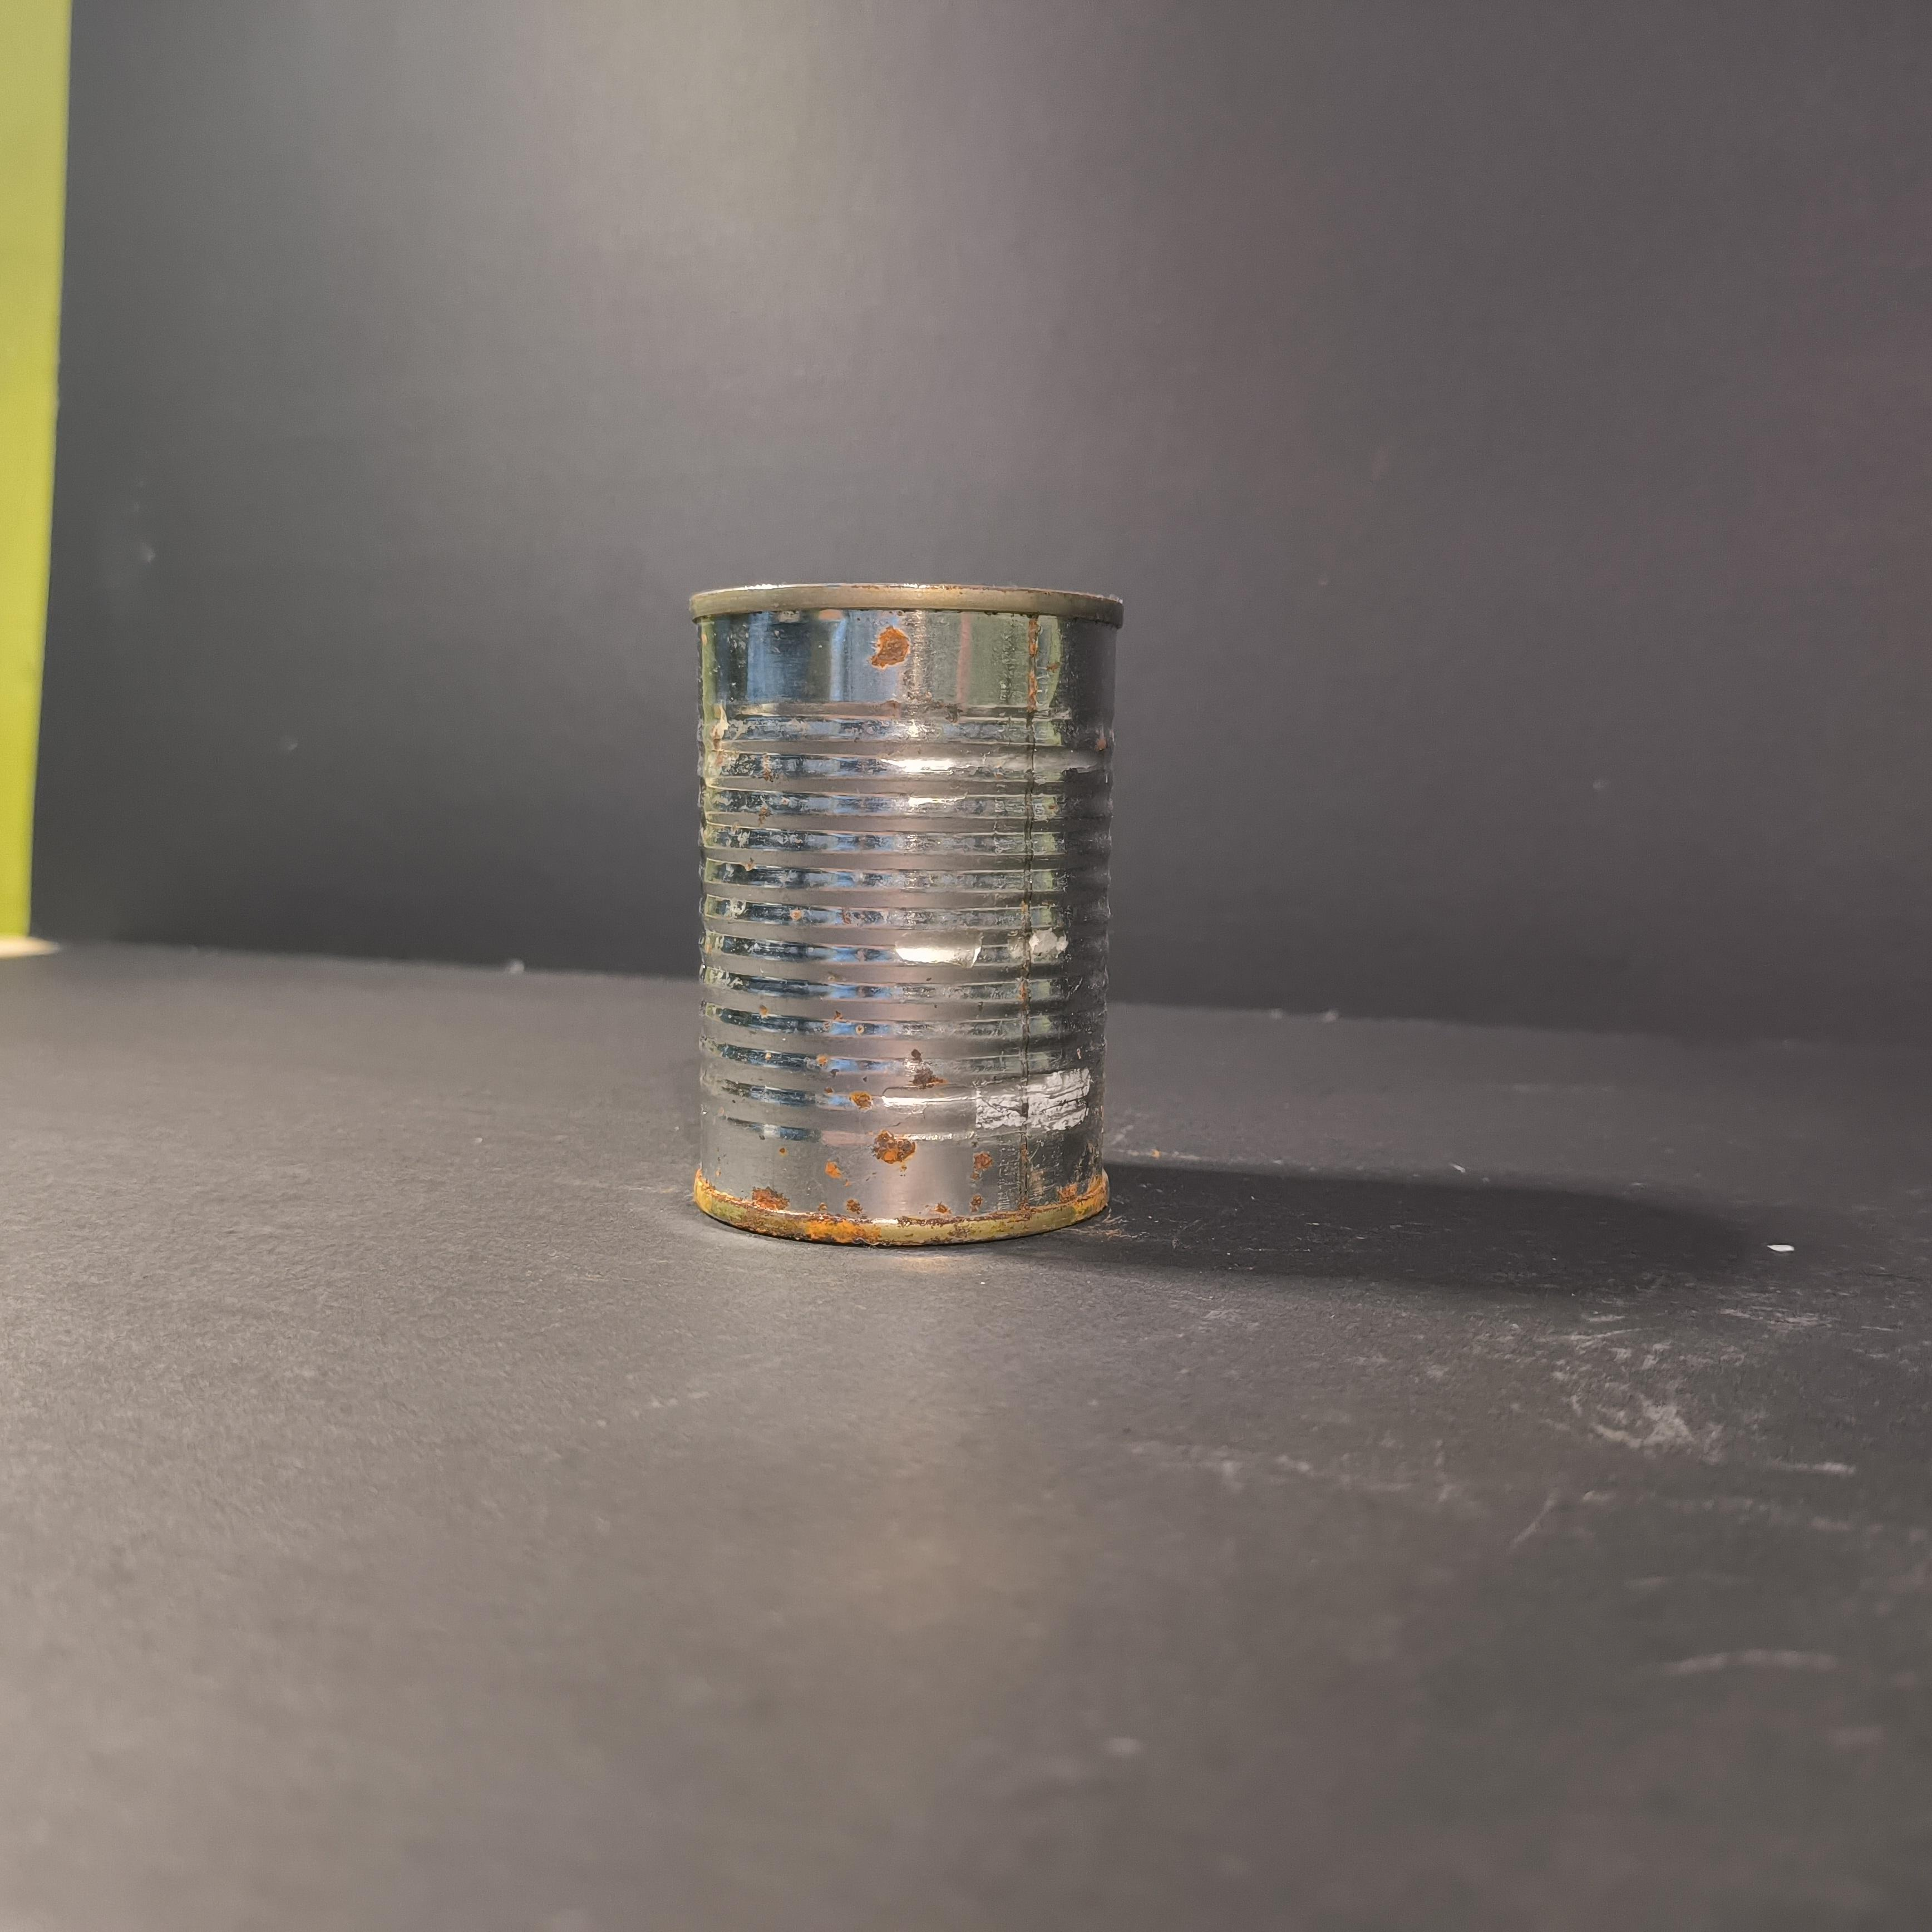Rusted: (676, 554, 1141, 1254)
